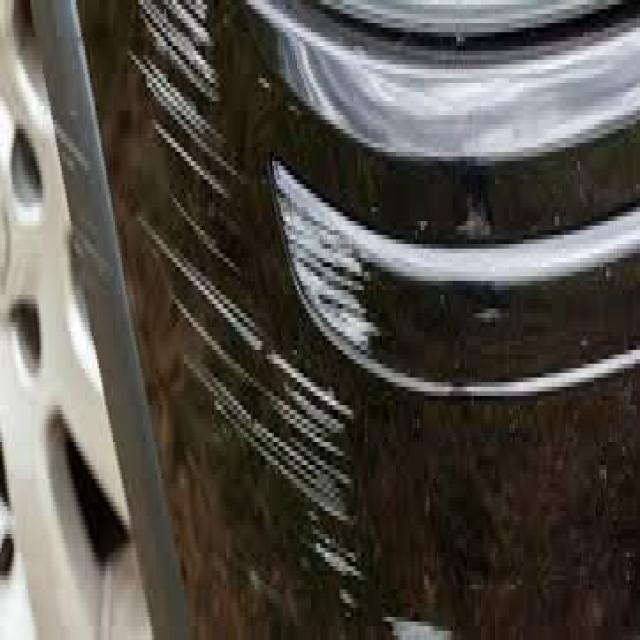scratch: (130, 0, 385, 325), (166, 327, 382, 640)
